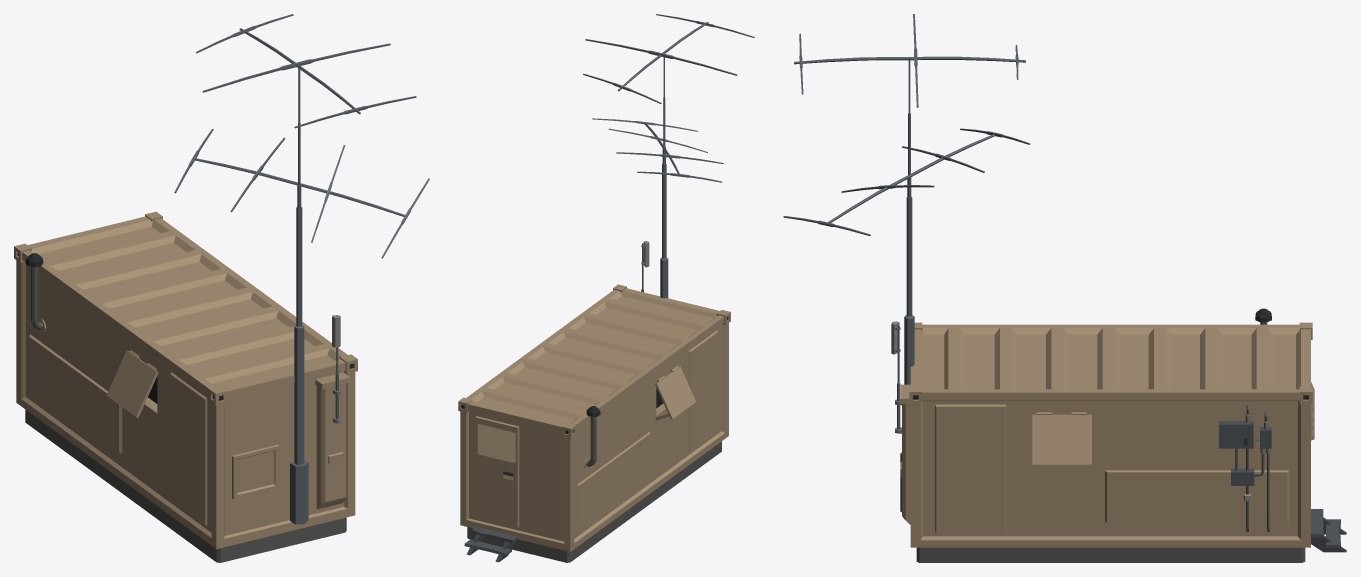
The model's file is SM_Prop_Radio_Control_Box_01.glb.
3 views of the same model, side by side, from view 1: azimuth 30°, elevation 25°; view 2: azimuth 150°, elevation 25°; view 3: azimuth 270°, elevation 25° (orthographic). The views are drawn at different scales.
Visible parts, largest first — view 1: SM_Prop_Radio_Control_Box_01; view 2: SM_Prop_Radio_Control_Box_01; view 3: SM_Prop_Radio_Control_Box_01.
Boxes of the visible parts, box(x1,y1,x2,y2) form: SM_Prop_Radio_Control_Box_01: box(14, 14, 429, 562); SM_Prop_Radio_Control_Box_01: box(458, 14, 754, 562); SM_Prop_Radio_Control_Box_01: box(783, 14, 1346, 562).
Bounding box in the file's own units: 3.72 × 8.05 × 8.53.
Materials: 1 (1 with a texture image).
